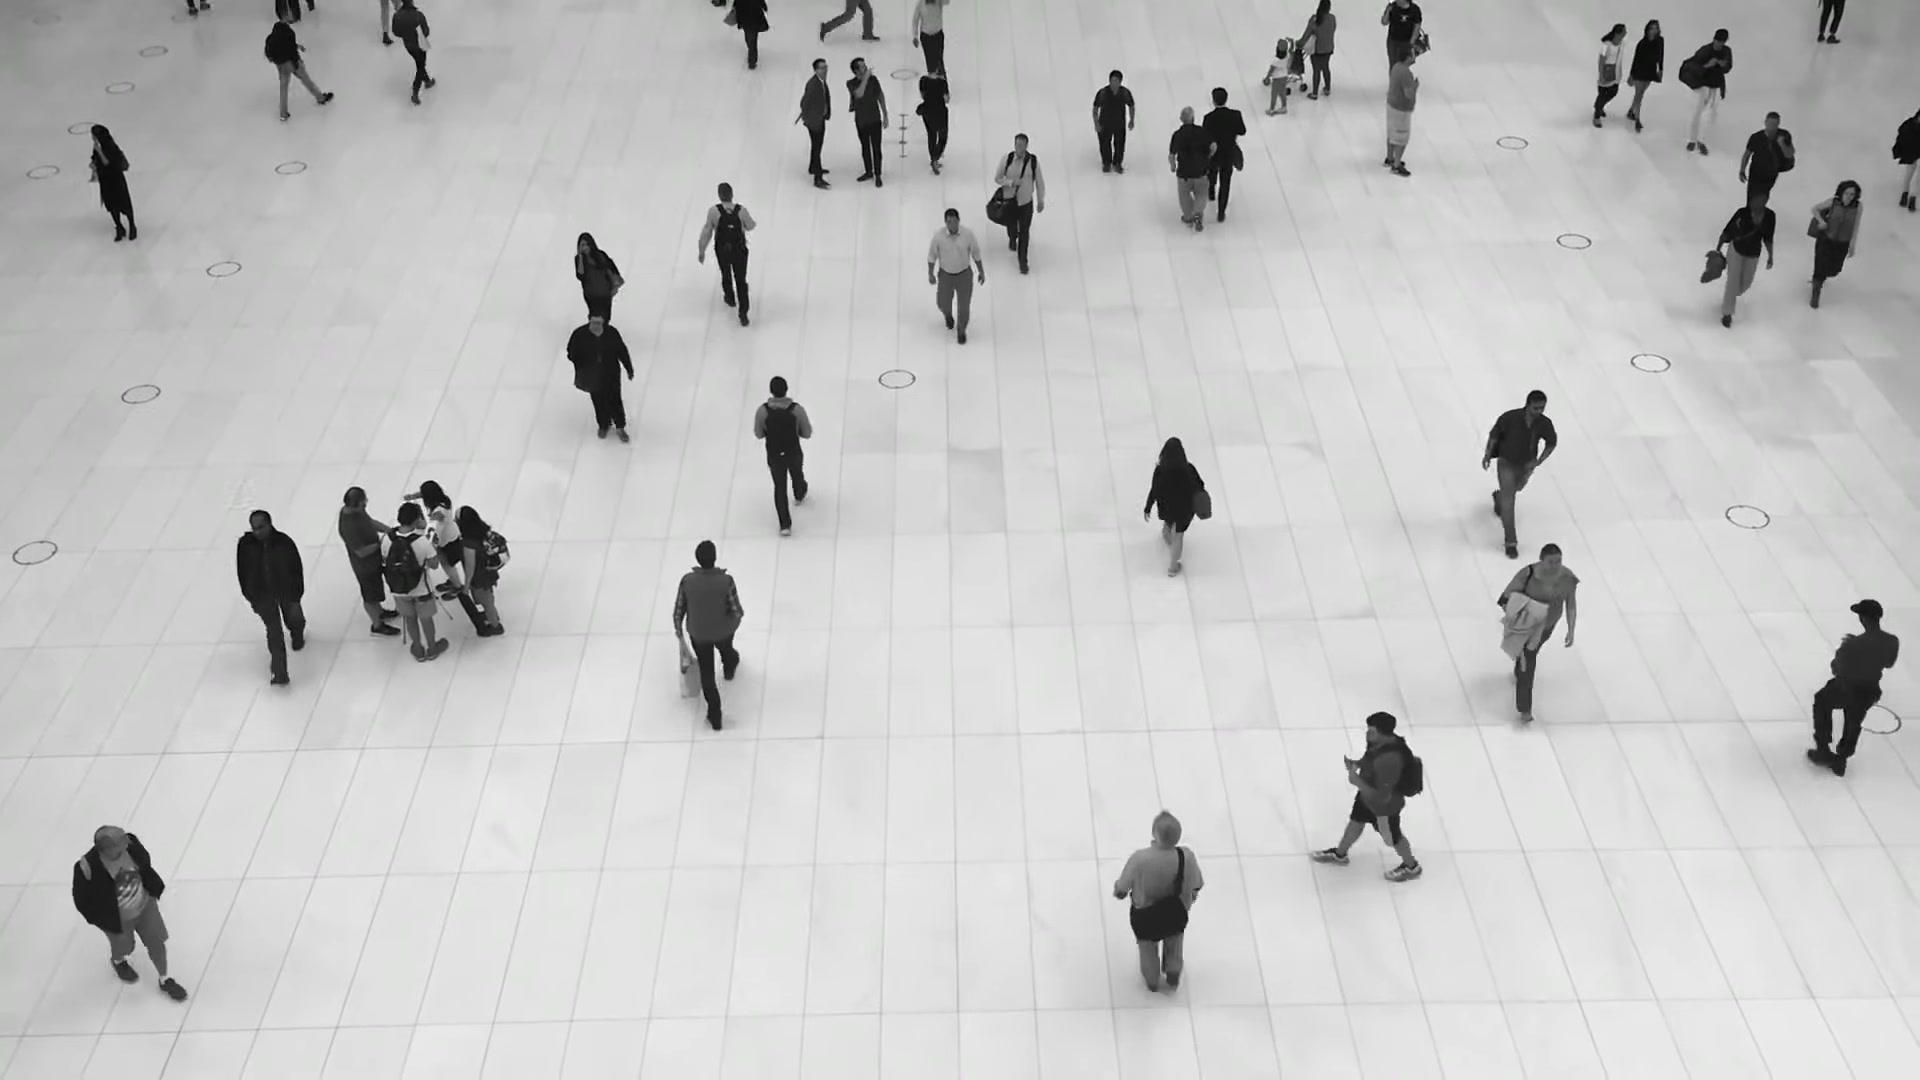person: (69, 825, 187, 1000), (1318, 710, 1429, 885), (1114, 815, 1204, 1014), (1811, 601, 1901, 781), (1496, 540, 1577, 715), (673, 540, 744, 727), (235, 506, 306, 684), (1481, 386, 1557, 550), (380, 503, 448, 664), (1143, 437, 1211, 576), (338, 486, 400, 635), (754, 376, 812, 532), (1714, 190, 1775, 333), (568, 308, 632, 445), (699, 182, 757, 324), (926, 208, 984, 345), (1804, 181, 1862, 313), (263, 6, 328, 121), (454, 505, 510, 638), (1679, 27, 1734, 156), (994, 131, 1045, 271), (1168, 108, 1217, 237), (1201, 86, 1247, 222), (88, 124, 137, 243), (1737, 107, 1794, 208), (846, 57, 888, 188), (420, 481, 461, 601), (1382, 47, 1420, 177), (1090, 70, 1135, 177), (796, 58, 832, 191), (574, 230, 623, 323), (1624, 17, 1664, 132), (392, 0, 432, 104), (915, 60, 950, 179), (1592, 23, 1628, 130), (1299, 0, 1337, 100), (910, 0, 948, 80), (1382, 0, 1423, 64), (1263, 45, 1291, 115)
